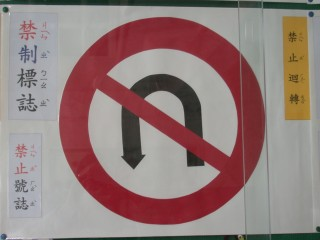No_u_turn: (59, 17, 266, 224)
